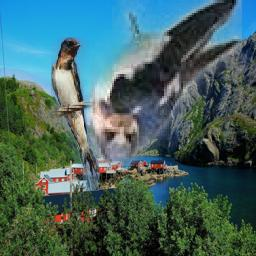Swallow: (90, 0, 242, 166), (51, 37, 99, 191)
